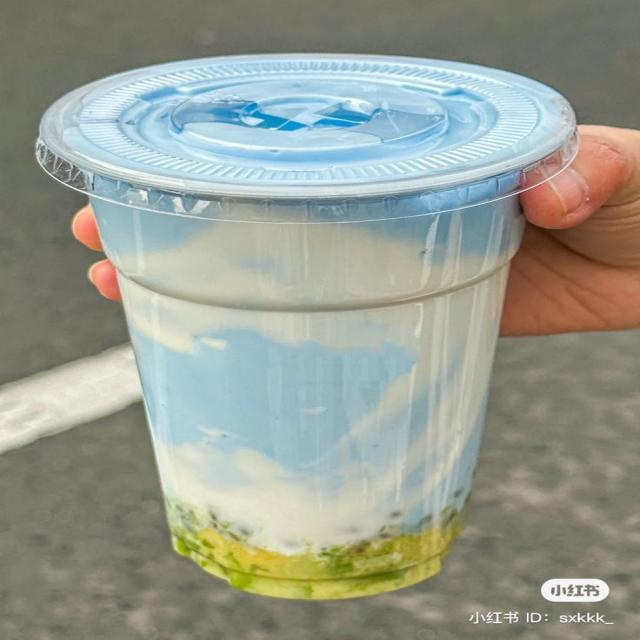plastic cup: (39, 50, 582, 602)
